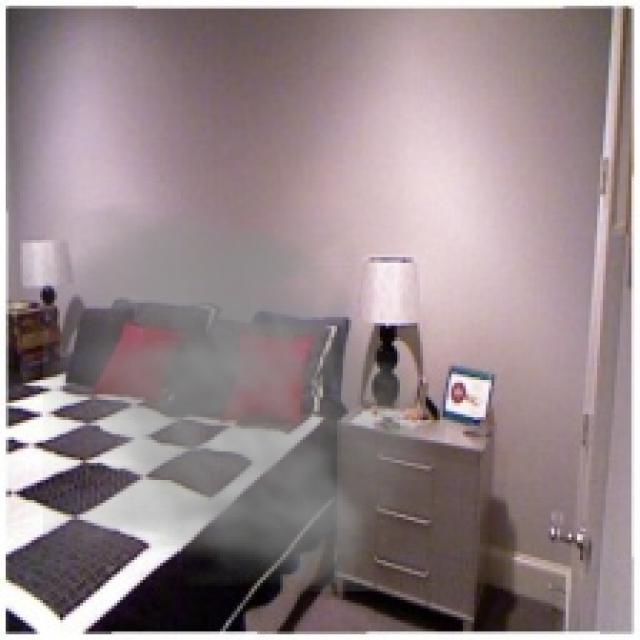smoke: (43, 203, 446, 591)
